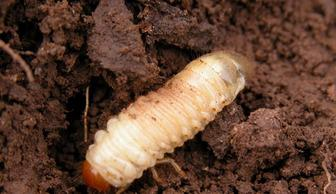grub: (74, 49, 247, 191)
